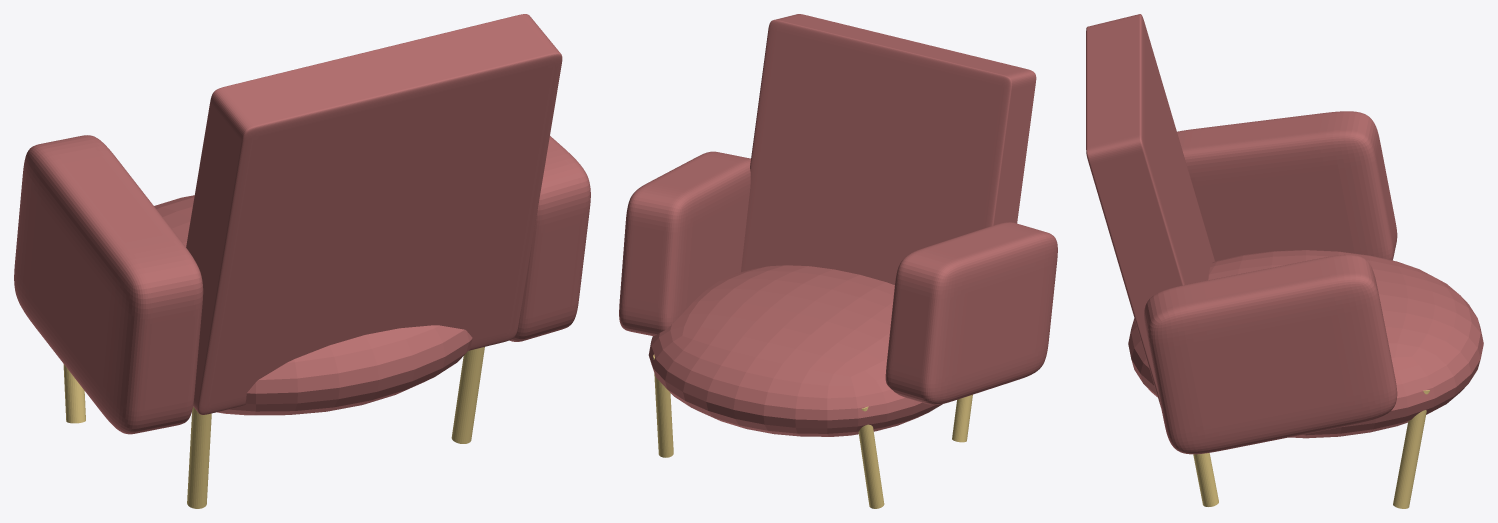
The picture shows the model from 3 angles, left to right: view 1: azimuth 30°, elevation 25°; view 2: azimuth 150°, elevation 25°; view 3: azimuth 270°, elevation 25°; orthographic projection. The views are drawn at different scales.
Visible parts, largest first — view 1: object 5, Back_Left_Leg, Back_Right_Leg, Front_Left_Leg; view 2: object 5, Front_Left_Leg, Front_Right_Leg, Back_Left_Leg; view 3: object 5, Front_Right_Leg, Back_Right_Leg.
Part boxes in pixels (x1=…): object 5: x1=14, y1=14, x2=590, y2=434; Back_Left_Leg: x1=187, y1=407, x2=211, y2=508; Back_Right_Leg: x1=451, y1=347, x2=484, y2=443; Front_Left_Leg: x1=63, y1=364, x2=85, y2=423; object 5: x1=619, y1=14, x2=1057, y2=436; Front_Left_Leg: x1=858, y1=406, x2=884, y2=508; Front_Right_Leg: x1=653, y1=354, x2=673, y2=457; Back_Left_Leg: x1=952, y1=394, x2=972, y2=442; object 5: x1=1086, y1=14, x2=1483, y2=454; Front_Right_Leg: x1=1393, y1=390, x2=1429, y2=508; Back_Right_Leg: x1=1193, y1=453, x2=1218, y2=506.
Bounding box in the file's own units: 1.87 × 1.76 × 1.69.
